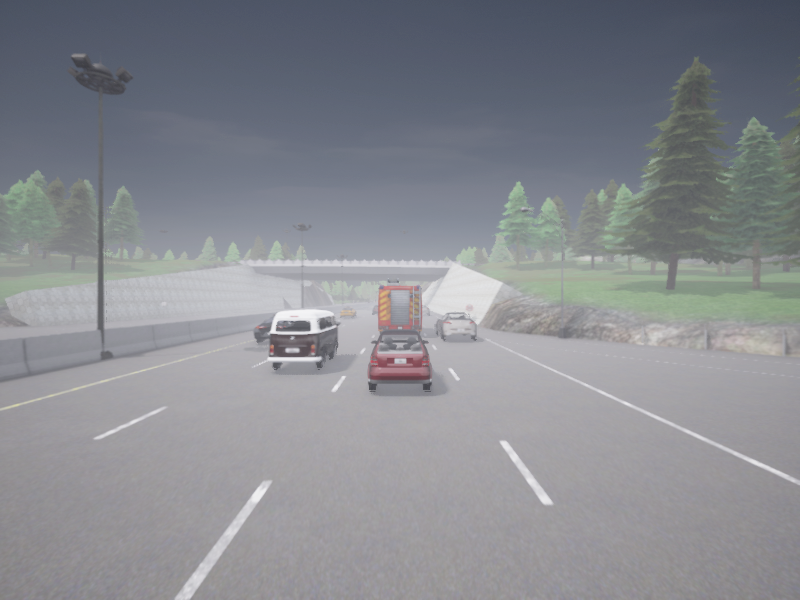vehicle: (267, 310, 340, 368), (368, 329, 431, 390), (378, 278, 421, 333), (436, 312, 476, 339), (253, 315, 275, 342), (340, 306, 356, 317), (422, 305, 429, 315), (373, 305, 377, 314)
